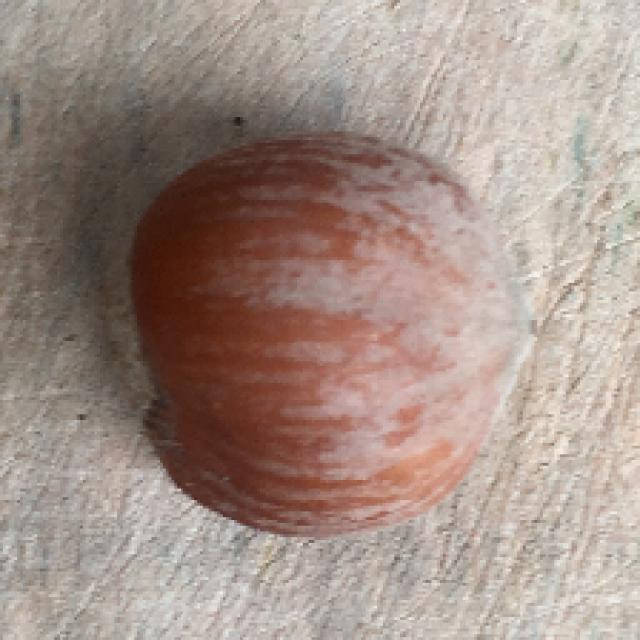qualityHazelnut: (95, 126, 528, 541)
